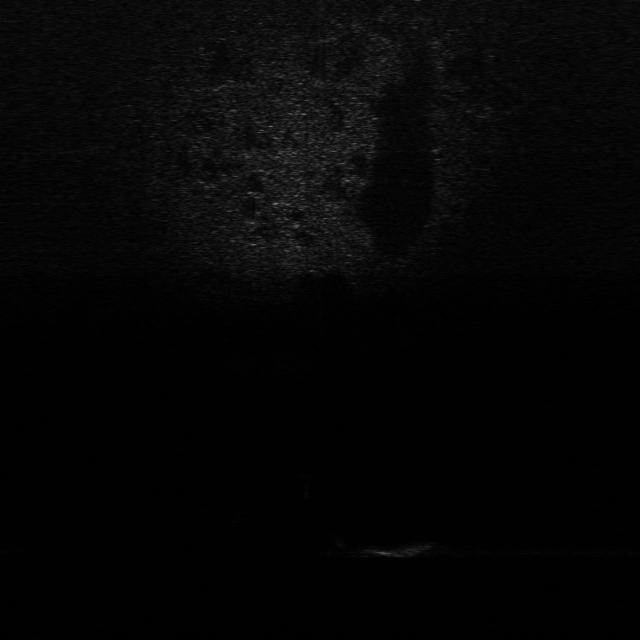metal bucket: (330, 528, 440, 560)
